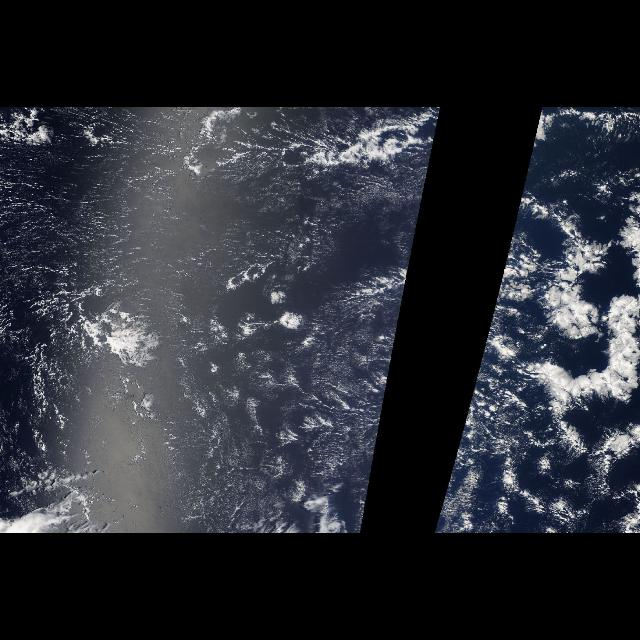Fish: (522, 194, 638, 504)
Flower: (474, 177, 638, 499), (170, 322, 380, 498)
Sugar: (2, 146, 360, 512)
